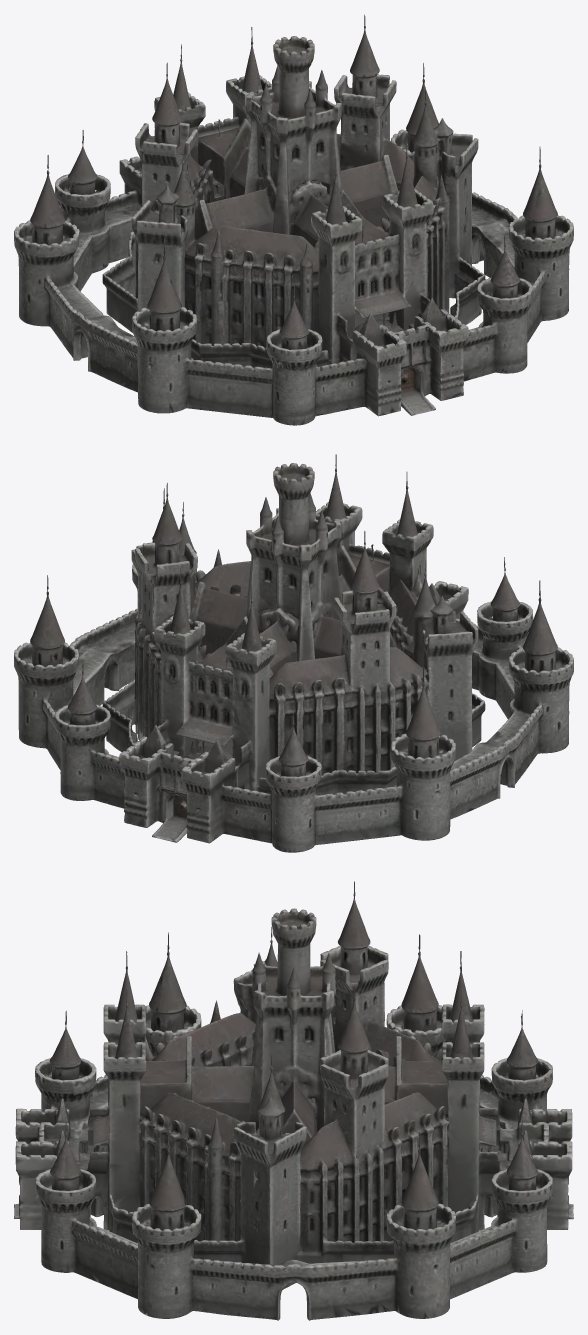
Rendered from palais.glb.
3 views of the same model, one above another, from view 1: azimuth 30°, elevation 25°; view 2: azimuth 150°, elevation 25°; view 3: azimuth 270°, elevation 25° (orthographic). The views are drawn at different scales.
Bounding box in the file's own units: 1.83 × 1.11 × 1.9.
Materials: 1 (1 with a texture image).
